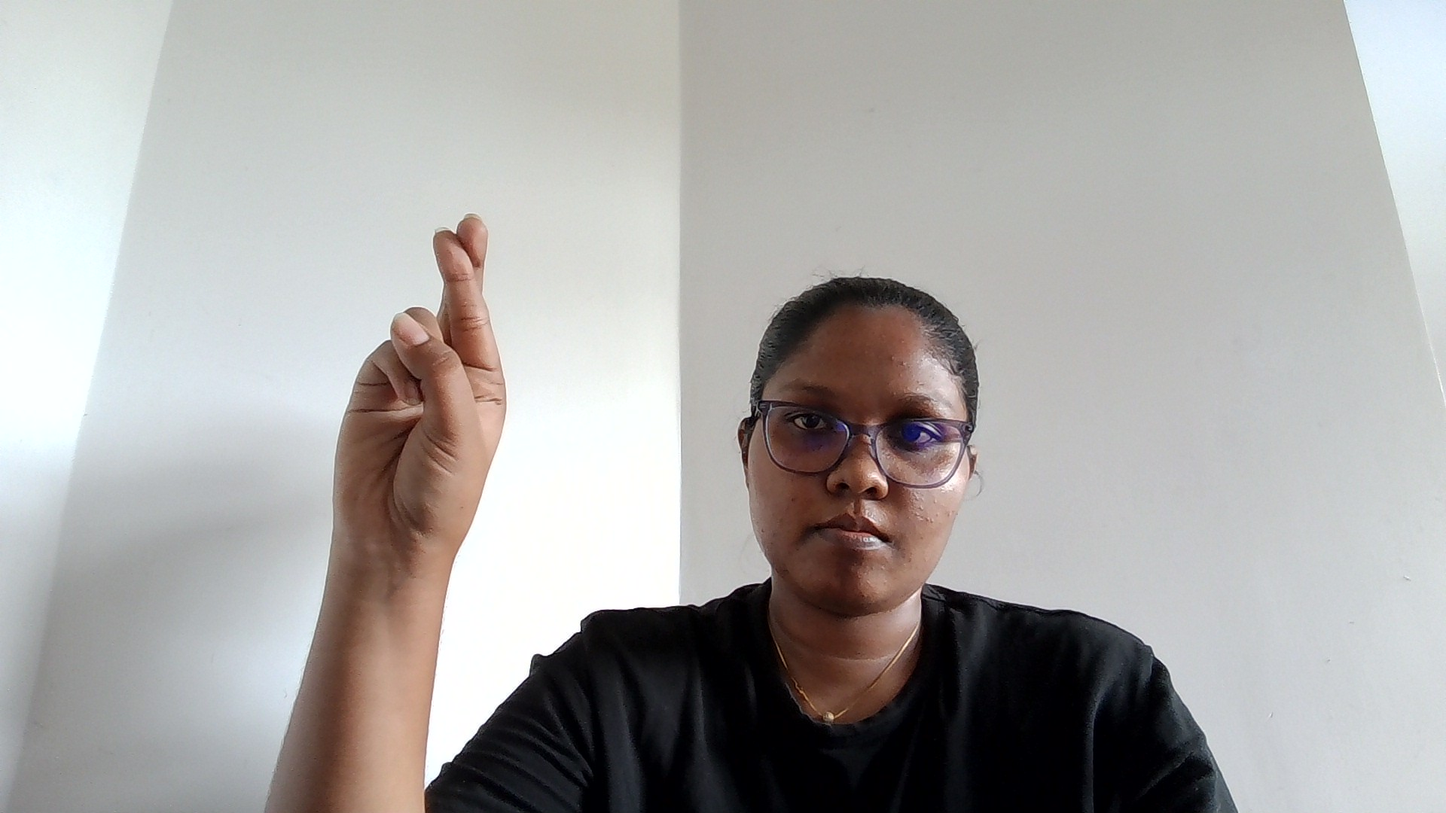Good_Luck: (156, 171, 613, 712)
